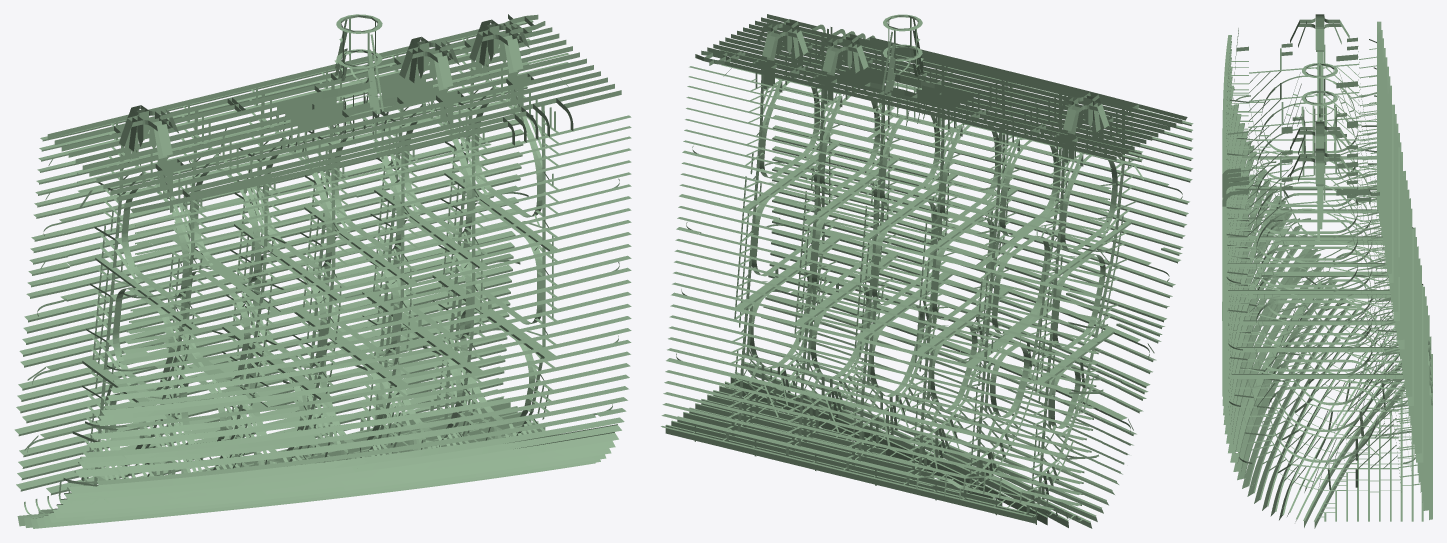
Rendered from NO_5_WING_CARGO_OIL_TK_SB.glb.
3 views of the same model, side by side, from view 1: azimuth 30°, elevation 25°; view 2: azimuth 150°, elevation 25°; view 3: azimuth 270°, elevation 25° (orthographic). The views are drawn at different scales.
Visible parts, largest first — view 1: ST_OuterShellxNo5SideTankSxL34xWeb_003004-IA_667.5x150x12.5x, ST_OuterShellxNo5SideTankSxL36xWeb_003004-IA_675.5x150x12.5x, ST_OuterShellxNo5SideTankSxL33xWeb_003004-TW_645x12.5+150x24, ST_OuterShellxNo5SideTankSxL32xWeb_001001-TW_595x12.5+150x31; view 2: no part large enough to name; view 3: ST_SideTransxFR58SxWeb_215001-TW_795x21+180x31_NVA_1993, ST_SideTransxFR56SxWeb_200001-TW_795x21+180x31_NVA_1993, ST_SideTransxFR58SxWeb_246001-TW_595x12.5+150x23_NVA_1993, ST_SideTransxFR57SxWeb_139001-TW_795x21+180x31_NVA_1993, ST_SideTransxFR58SxWeb_215002-TW_795x21+180x31_NVA_1993, ST_SideTransxFR57SxWeb_123001-TW_595x12.5+150x20_NVA_1993, ST_SideTransxFR57SxWeb_139002-TW_795x21+180x31_NVA_1993, ST_SideTransxFR56SxWeb_119001-TW_595x12.5+150x16_NVA_1993.
Boxes of the visible parts, box(x1,y1,x2,y2) form: ST_OuterShellxNo5SideTankSxL34xWeb_003004-IA_667.5x150x12.5x: box(113, 475, 215, 490); ST_OuterShellxNo5SideTankSxL36xWeb_003004-IA_675.5x150x12.5x: box(120, 459, 222, 473); ST_OuterShellxNo5SideTankSxL33xWeb_003004-TW_645x12.5+150x24: box(110, 482, 211, 497); ST_OuterShellxNo5SideTankSxL32xWeb_001001-TW_595x12.5+150x31: box(502, 437, 591, 457); ST_SideTransxFR58SxWeb_215001-TW_795x21+180x31_NVA_1993: box(1235, 348, 1322, 352); ST_SideTransxFR56SxWeb_200001-TW_795x21+180x31_NVA_1993: box(1251, 294, 1337, 298); ST_SideTransxFR58SxWeb_246001-TW_595x12.5+150x23_NVA_1993: box(1228, 264, 1322, 267); ST_SideTransxFR57SxWeb_139001-TW_795x21+180x31_NVA_1993: box(1242, 321, 1322, 325); ST_SideTransxFR58SxWeb_215002-TW_795x21+180x31_NVA_1993: box(1323, 348, 1399, 352); ST_SideTransxFR57SxWeb_123001-TW_595x12.5+150x20_NVA_1993: box(1229, 237, 1322, 240); ST_SideTransxFR57SxWeb_139002-TW_795x21+180x31_NVA_1993: box(1323, 321, 1395, 325); ST_SideTransxFR56SxWeb_119001-TW_595x12.5+150x16_NVA_1993: box(1232, 210, 1317, 213).
Size of the model in its own units: 36.83 by 34.44 by 17.38.
